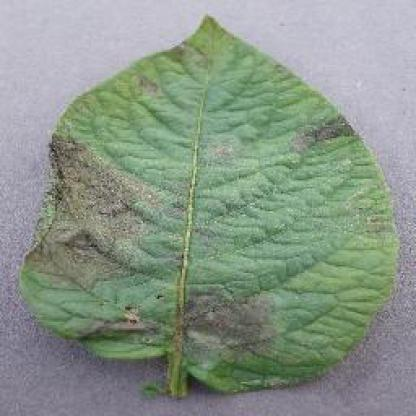bad leaf: (42, 103, 363, 361)
